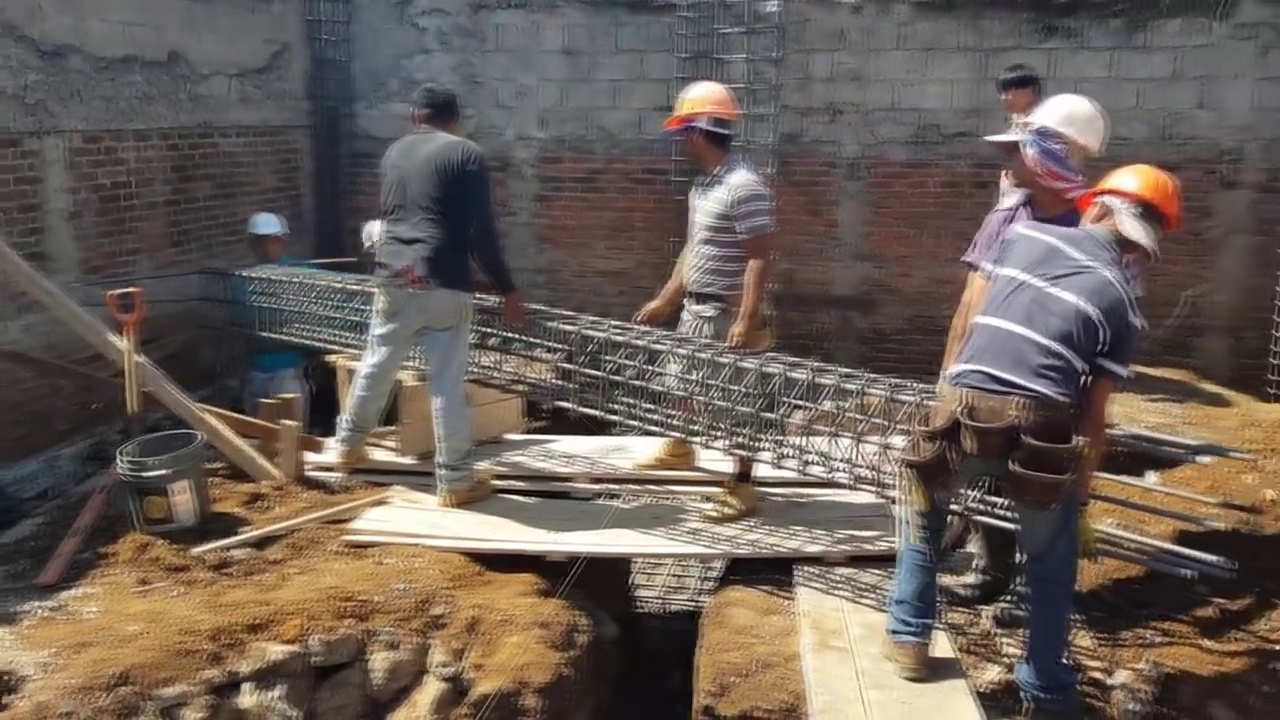helmet: (1082, 164, 1181, 241), (1008, 94, 1106, 163), (666, 78, 742, 132), (244, 208, 290, 240)
helmet-off: (405, 85, 459, 139), (999, 62, 1047, 117)
helmet-on: (1003, 90, 1109, 212), (1070, 163, 1183, 270), (660, 75, 740, 176), (244, 209, 290, 267)
person: (875, 169, 1177, 706), (330, 92, 510, 505), (947, 79, 1133, 439), (627, 71, 781, 472), (227, 209, 314, 419)
